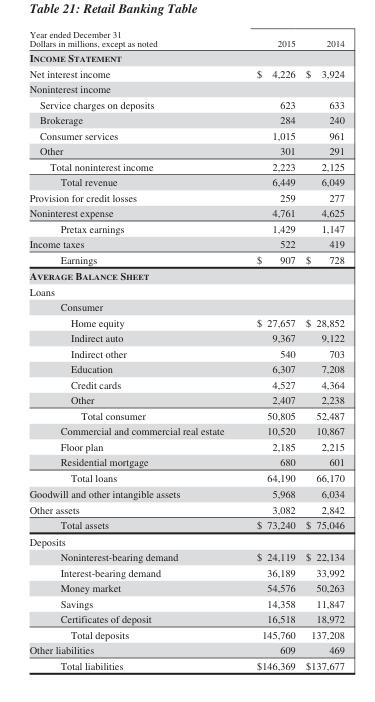table: (28, 28, 343, 671)
table column: (28, 28, 239, 671), (239, 28, 299, 671), (299, 28, 343, 671)
table column header: (28, 28, 343, 49)
table projected row header: (28, 49, 343, 65), (28, 267, 343, 283), (28, 283, 343, 299), (28, 533, 343, 549), (28, 81, 343, 96), (28, 299, 343, 314)
table row: (28, 28, 343, 49), (28, 49, 343, 65), (28, 65, 343, 81), (28, 96, 343, 112), (28, 127, 343, 143), (28, 158, 343, 174), (28, 189, 343, 205), (28, 220, 343, 236), (28, 251, 343, 267), (28, 267, 343, 283), (28, 283, 343, 299), (28, 314, 343, 330), (28, 345, 343, 361), (28, 376, 343, 392), (28, 407, 343, 423), (28, 438, 343, 454), (28, 469, 343, 485), (28, 485, 343, 501), (28, 501, 343, 517), (28, 517, 343, 533), (28, 533, 343, 549), (28, 564, 343, 580), (28, 595, 343, 611), (28, 626, 343, 642), (28, 81, 343, 96), (28, 112, 343, 127), (28, 143, 343, 158), (28, 174, 343, 189), (28, 205, 343, 220), (28, 236, 343, 251), (28, 299, 343, 314), (28, 330, 343, 345), (28, 361, 343, 376), (28, 392, 343, 407), (28, 423, 343, 438), (28, 454, 343, 469), (28, 549, 343, 564), (28, 580, 343, 595), (28, 611, 343, 626), (28, 642, 343, 657), (28, 657, 343, 671)
